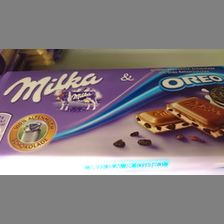chocolate: (1, 71, 223, 155)
